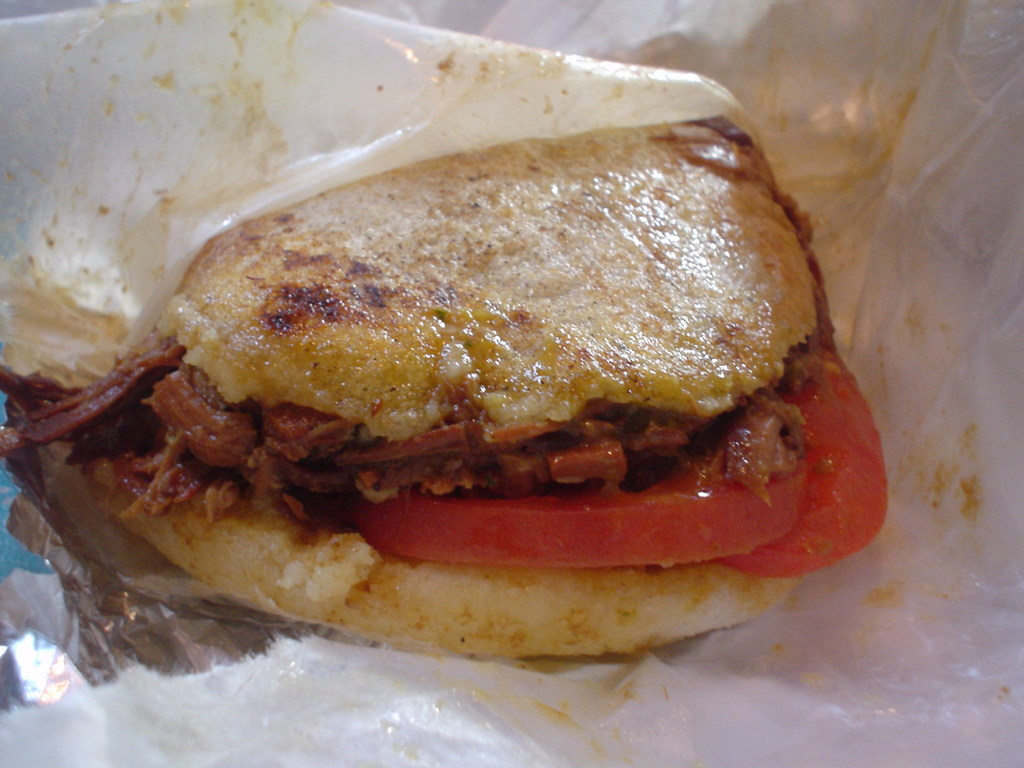Hamburger: (0, 116, 887, 656)
